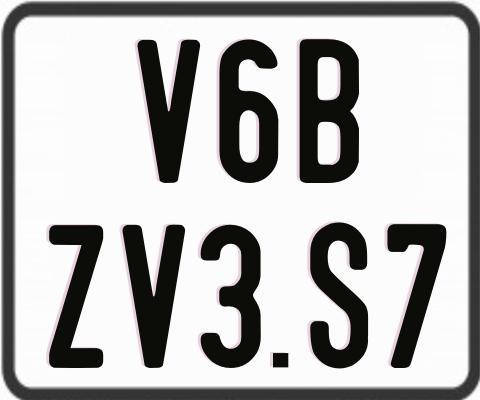3: (199, 223, 261, 371)
6: (218, 37, 283, 185)
7: (387, 222, 447, 368)
B: (300, 37, 365, 187)
S: (307, 221, 367, 373)
V: (135, 37, 204, 183), (122, 223, 187, 370)
Z: (48, 223, 105, 370)
